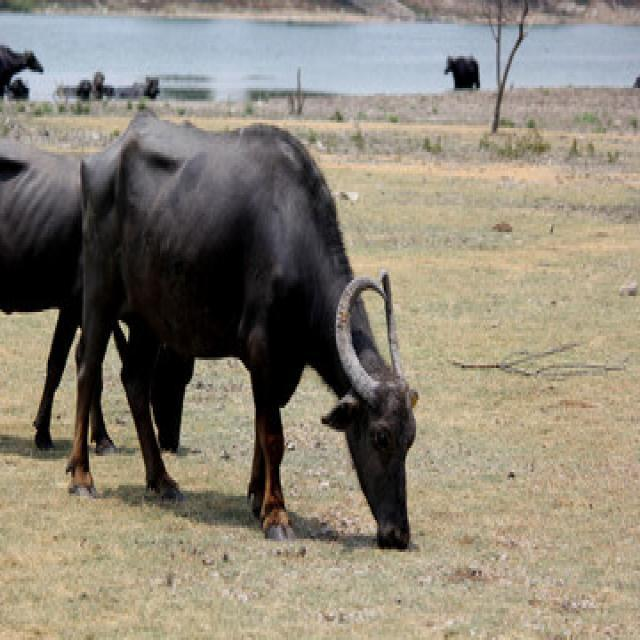Buffalo: (64, 107, 422, 553)
